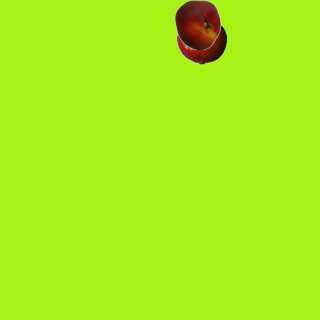Apple Braeburn: (176, 14, 226, 64)
Nectarine Flat: (172, 0, 222, 49)
